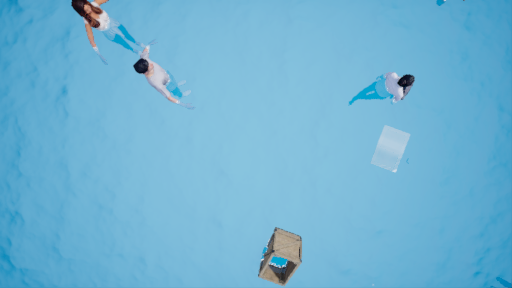person: (72, 1, 147, 59), (134, 48, 196, 106), (347, 66, 412, 114)
